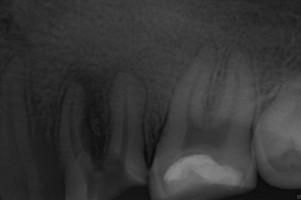Dental Caries: (65, 63, 110, 157)
